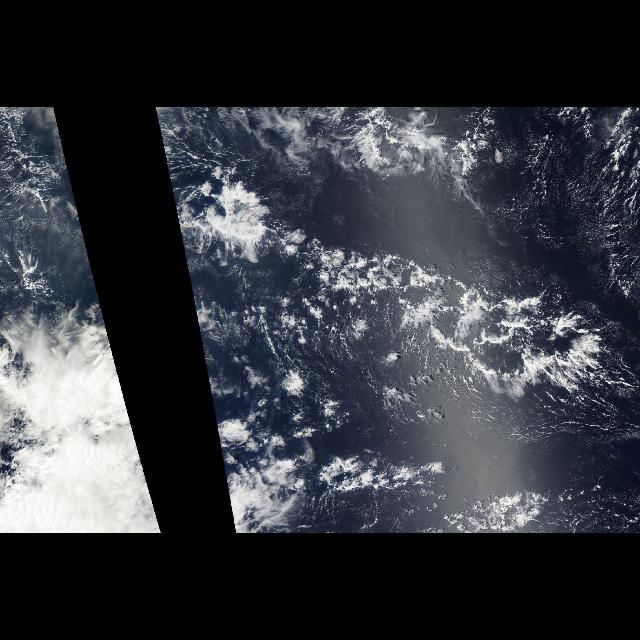Fish: (165, 114, 640, 446)
